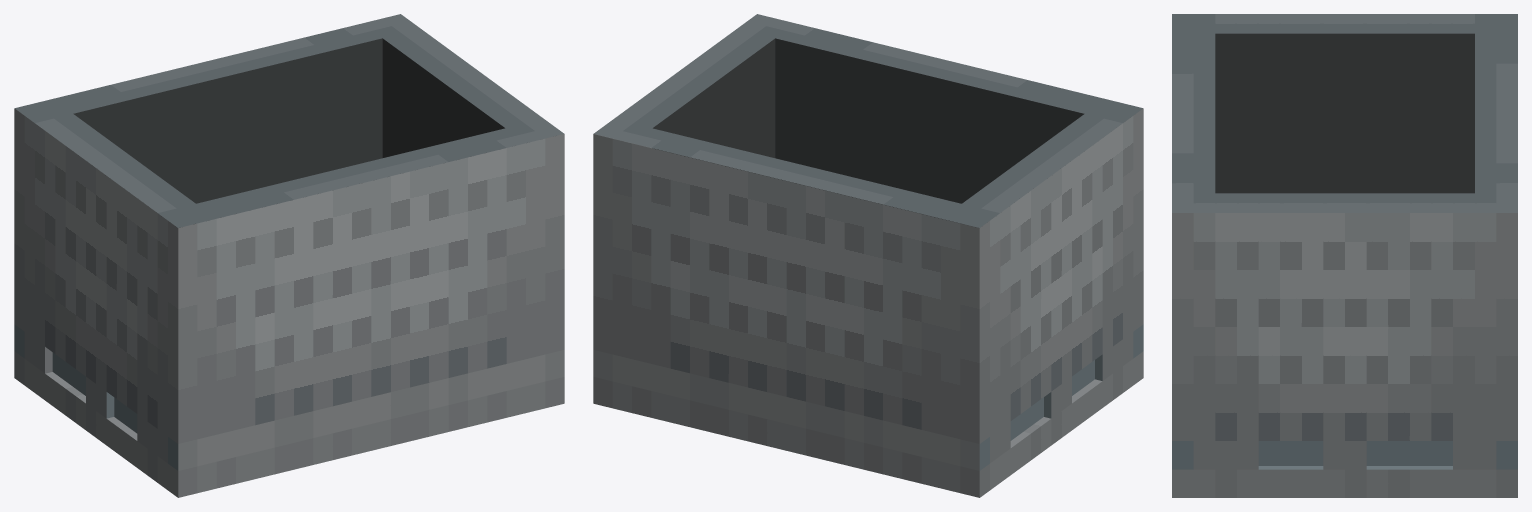
The model's file is Minekart.fbx.
3 views of the same model, side by side, from view 1: azimuth 30°, elevation 25°; view 2: azimuth 150°, elevation 25°; view 3: azimuth 270°, elevation 25° (orthographic). The views are drawn at different scales.
Visible parts, largest first — view 1: Minekart; view 2: Minekart; view 3: Minekart.
Part boxes in pixels (bbox=[...]): Minekart: bbox=[14, 14, 564, 497]; Minekart: bbox=[593, 14, 1143, 497]; Minekart: bbox=[1172, 14, 1517, 497].
Bounding box in the file's own units: 300 × 213 × 220.
